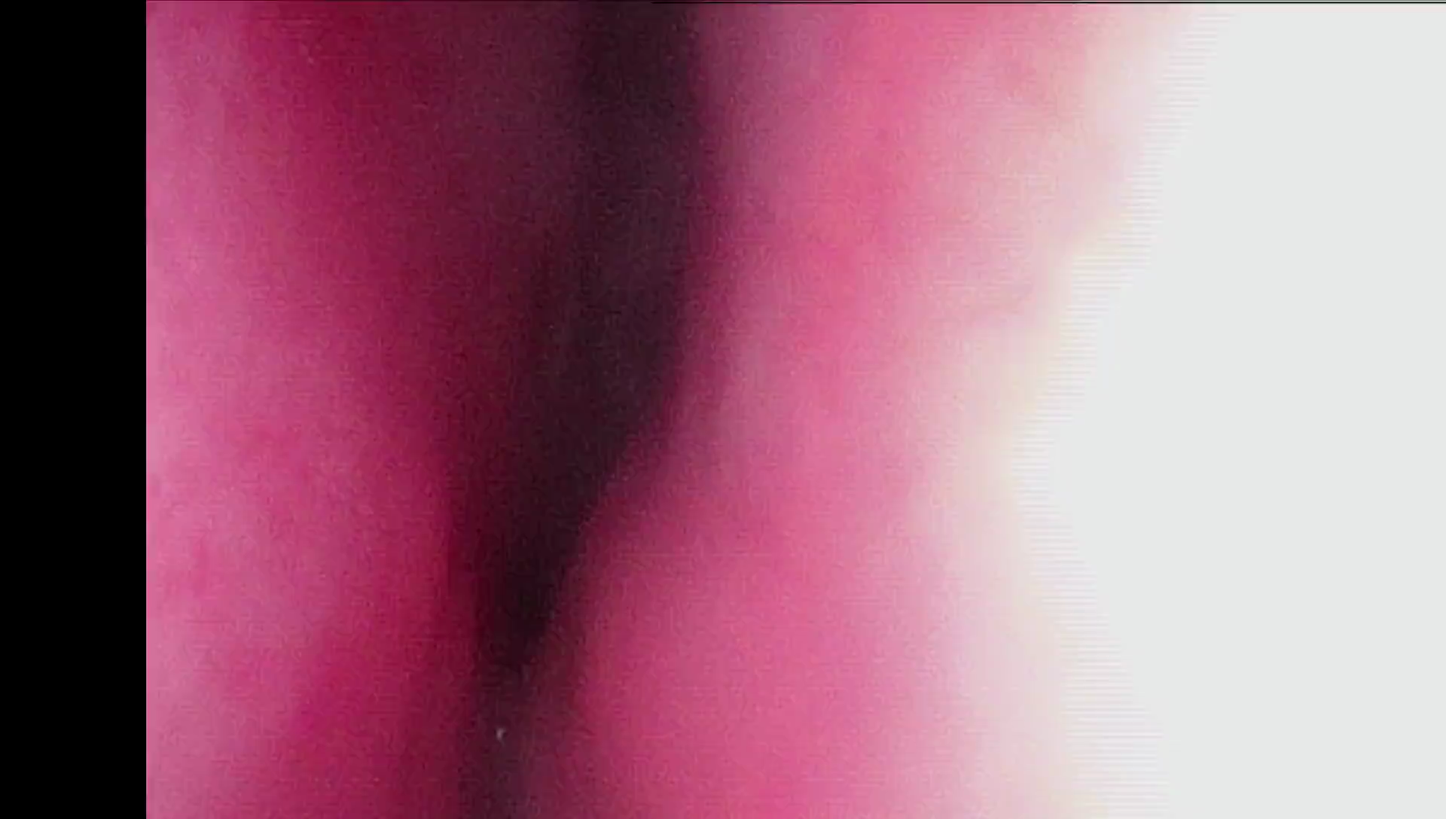close_wall: (778, 10, 1446, 819), (151, 11, 408, 819)
next: (469, 339, 649, 709)
